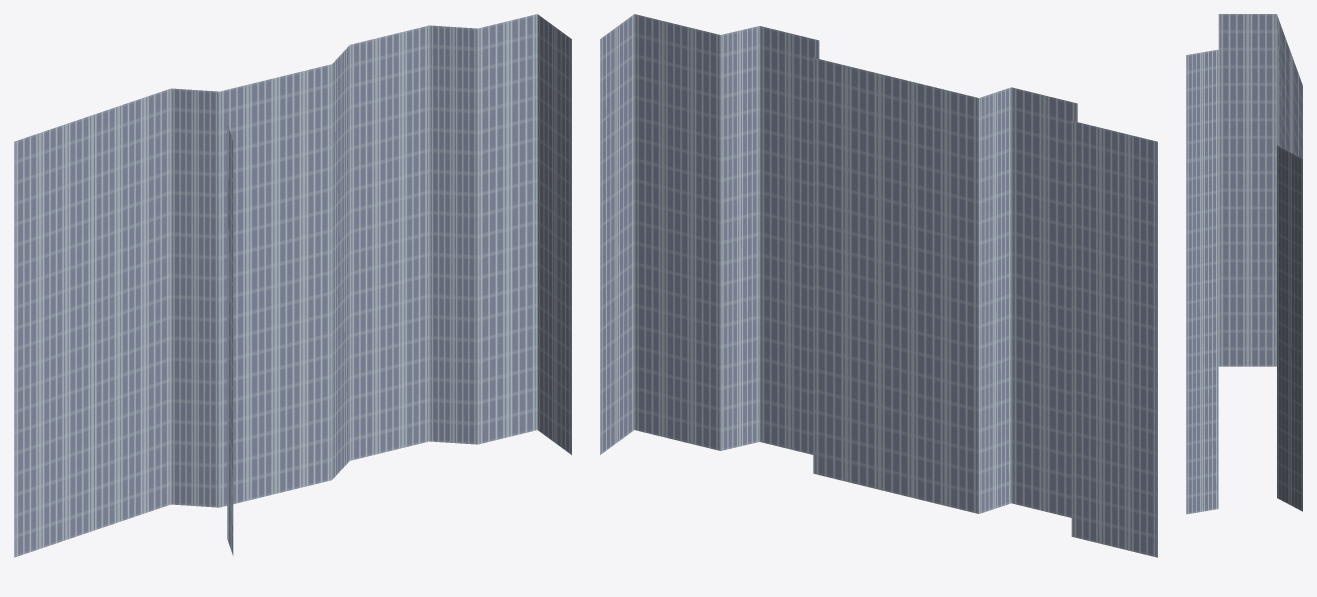
Rendered from testui15.gltf.
The picture shows the model from 3 angles, left to right: view 1: azimuth 30°, elevation 25°; view 2: azimuth 150°, elevation 25°; view 3: azimuth 270°, elevation 25°; orthographic projection. The views are drawn at different scales.
Size of the model in its own units: 79 by 60 by 18.
Materials: 2 (2 with a texture image).
